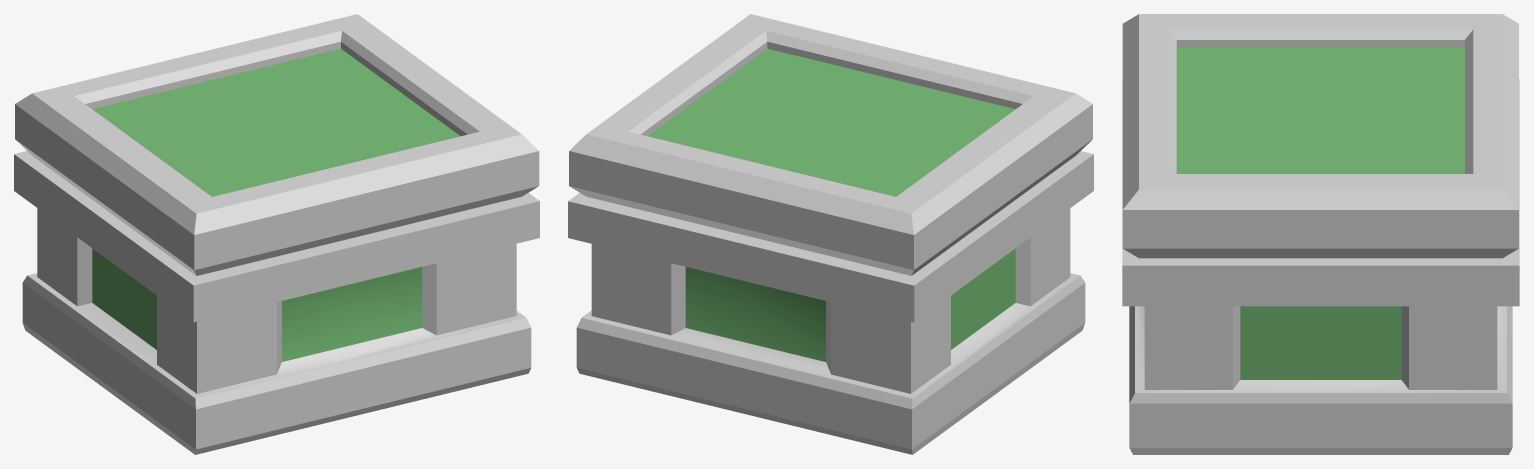
The model's file is small_chest.fbx.
3 renders of one model, left to right at view 1: azimuth 30°, elevation 25°; view 2: azimuth 150°, elevation 25°; view 3: azimuth 270°, elevation 25°, orthographic. The views are drawn at different scales.
Parts seen in each view (by area): view 1: polySurface1584, polySurface1585; view 2: polySurface1584, polySurface1585; view 3: polySurface1585, polySurface1584.
Boxes of the visible parts, x1=… form: polySurface1584: x1=14, y1=151, x2=539, y2=454; polySurface1585: x1=15, y1=14, x2=539, y2=275; polySurface1584: x1=568, y1=151, x2=1093, y2=454; polySurface1585: x1=569, y1=14, x2=1092, y2=275; polySurface1585: x1=1122, y1=14, x2=1518, y2=258; polySurface1584: x1=1122, y1=79, x2=1519, y2=454.
Bounding box in the file's own units: 0.966 × 0.6353 × 0.8686.
